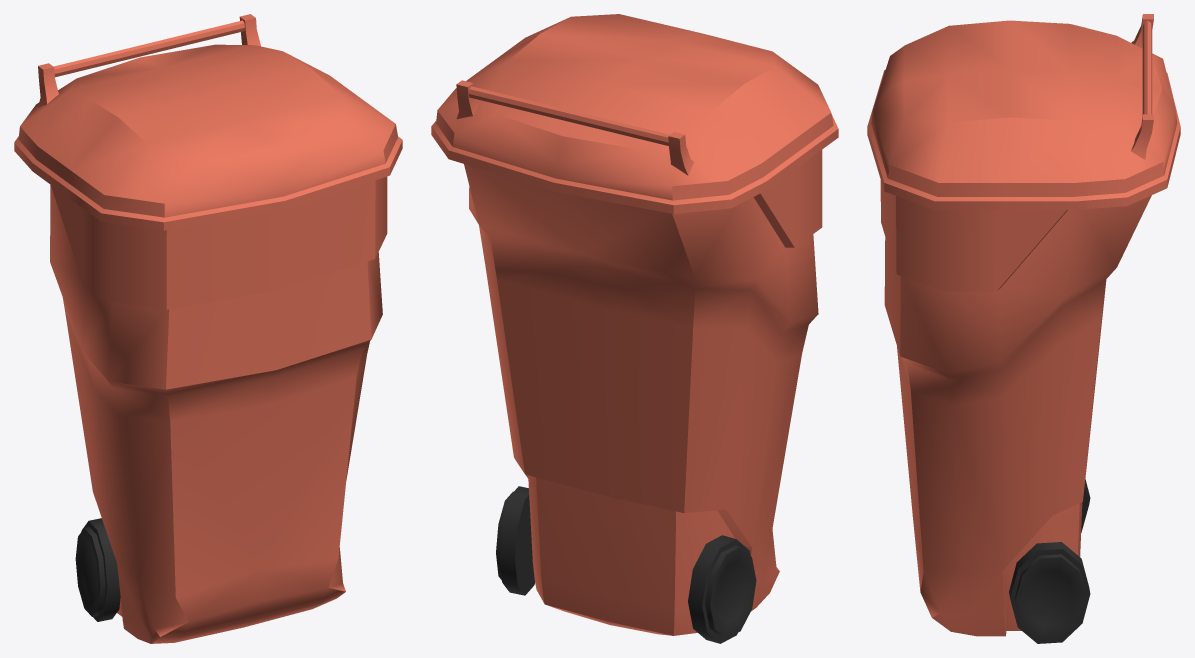
File: bin_b.glb
3 views of the same model, side by side, from view 1: azimuth 30°, elevation 25°; view 2: azimuth 150°, elevation 25°; view 3: azimuth 270°, elevation 25° (orthographic). The views are drawn at different scales.
Visible parts, largest first — view 1: body; view 2: body; view 3: body.
Part boxes in pixels (bbox=[...]): body: bbox=[14, 14, 402, 643]; body: bbox=[431, 14, 838, 643]; body: bbox=[867, 14, 1180, 643].
Size of the model in its own units: 0.34 by 0.56 by 0.3.
